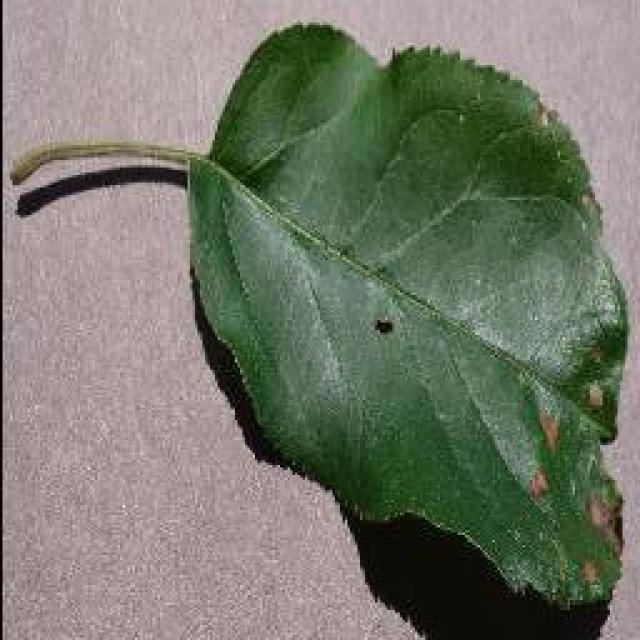apple black rot: (8, 18, 630, 638)
